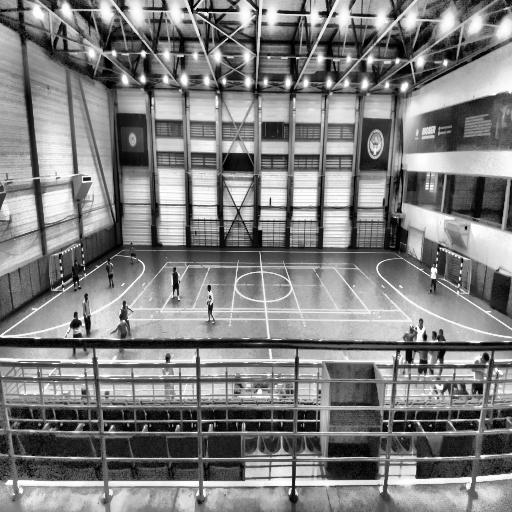ball: (119, 349, 122, 353)
player: (64, 310, 90, 359), (110, 314, 132, 360), (119, 300, 134, 336), (82, 292, 92, 338), (171, 265, 181, 303), (206, 284, 215, 326), (71, 259, 82, 293), (428, 261, 438, 295), (106, 258, 114, 290), (129, 241, 138, 265)
